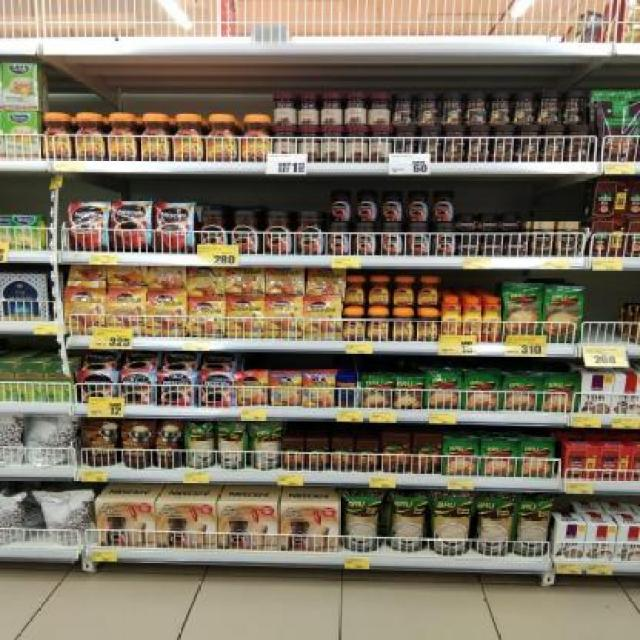Coffee: (68, 200, 108, 252), (64, 286, 105, 336), (156, 202, 195, 252), (114, 200, 151, 252), (108, 287, 146, 336), (148, 289, 186, 337), (205, 113, 238, 161), (305, 296, 341, 339), (228, 296, 264, 338), (189, 297, 226, 337), (137, 114, 169, 160), (268, 296, 301, 340), (172, 114, 202, 161), (242, 115, 272, 162), (74, 113, 104, 159), (107, 114, 136, 160), (158, 371, 194, 407), (43, 112, 71, 158), (200, 210, 228, 255), (80, 370, 115, 405), (298, 210, 324, 255), (231, 211, 258, 254), (199, 372, 233, 406), (264, 211, 290, 255), (120, 372, 154, 405), (270, 372, 300, 406), (236, 372, 266, 405), (305, 373, 333, 407), (442, 296, 460, 344), (484, 296, 501, 344), (432, 222, 456, 255), (463, 297, 480, 343), (354, 222, 377, 255), (406, 222, 429, 255), (330, 189, 352, 222), (381, 222, 402, 256), (392, 275, 414, 307), (327, 222, 348, 255), (417, 308, 438, 341), (356, 190, 378, 221), (558, 222, 578, 256), (408, 190, 429, 222), (382, 190, 403, 221), (368, 309, 389, 340), (344, 308, 364, 340), (534, 221, 552, 256), (418, 276, 439, 306), (393, 308, 412, 341), (434, 190, 454, 220), (346, 276, 366, 306), (370, 276, 388, 306), (458, 233, 478, 256), (506, 236, 528, 256), (482, 235, 500, 256), (480, 214, 498, 232), (458, 213, 476, 230), (503, 214, 520, 232)
